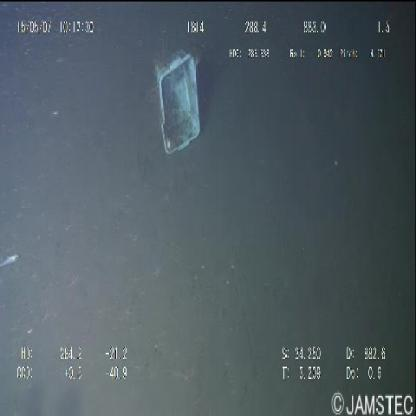Rác: (155, 53, 201, 158)
